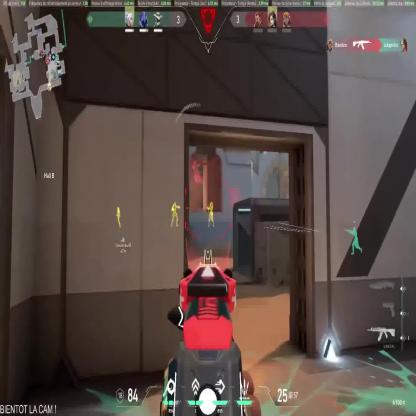enemy: (171, 201, 180, 228), (207, 202, 214, 228), (116, 205, 120, 228)
enemy_head: (209, 202, 213, 207), (173, 201, 177, 205), (117, 206, 119, 209)
